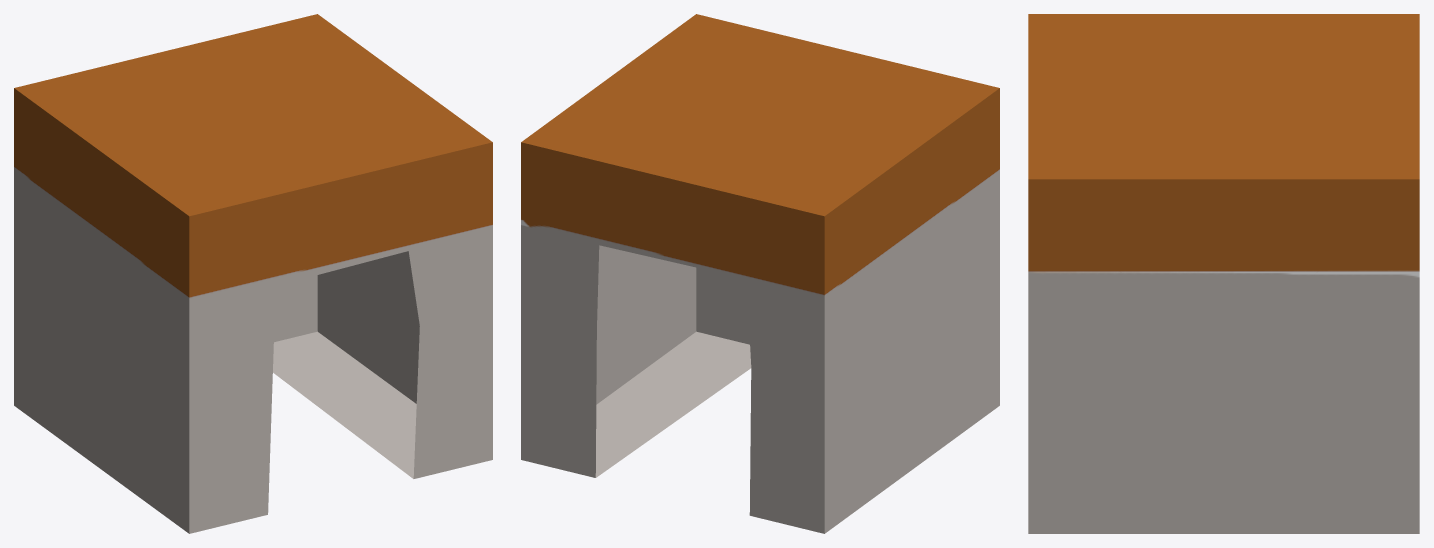
The model's file is block.obj.
3 views of the same model, side by side, from view 1: azimuth 30°, elevation 25°; view 2: azimuth 150°, elevation 25°; view 3: azimuth 270°, elevation 25° (orthographic). The views are drawn at different scales.
Visible parts, largest first — view 1: Cube; view 2: Cube; view 3: Cube.
Part boxes in pixels (bbox=[...]): Cube: bbox=[14, 14, 492, 533]; Cube: bbox=[521, 14, 999, 533]; Cube: bbox=[1028, 14, 1419, 533].
Bounding box in the file's own units: 1 × 1 × 1.
1 material, 1 textured.
